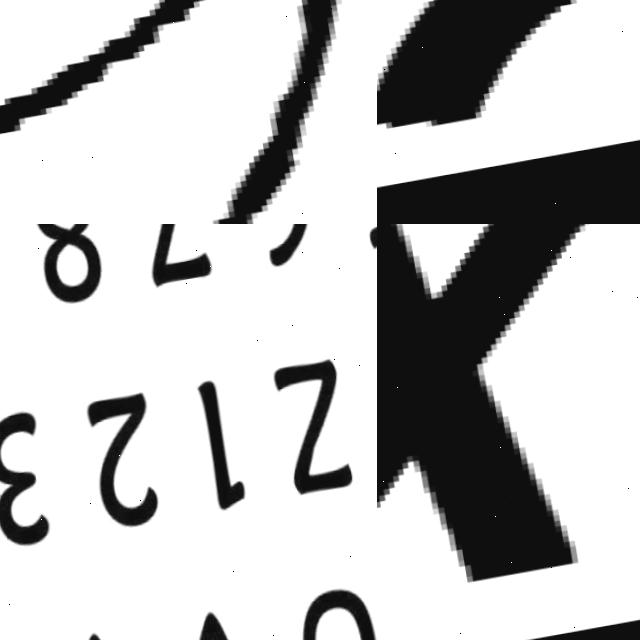1: (181, 368, 251, 526)
2: (68, 378, 172, 557)
3: (0, 403, 60, 567)
6: (0, 0, 377, 224), (224, 224, 331, 290)
7: (126, 224, 217, 307)
8: (21, 224, 117, 327)
E: (377, 0, 581, 126), (377, 142, 640, 224)
X: (377, 224, 640, 640)
